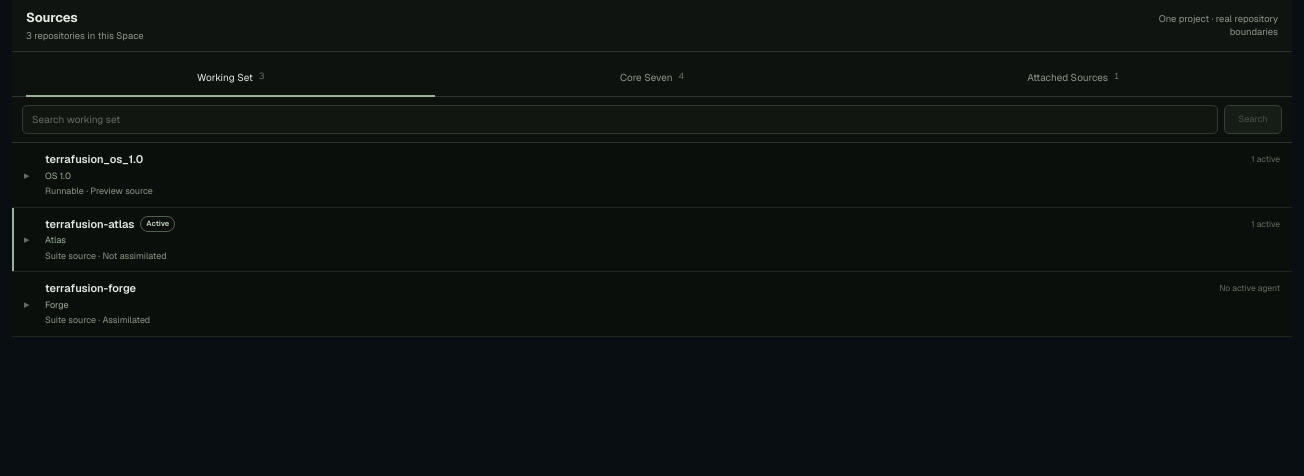
it: Experience V2 repository shelf › groups all Core Seven by their asymmetric product roles
Click the tab with aria-label "Core Seven, 4 repositories".
click(652, 77)  # box [441,58,863,96]
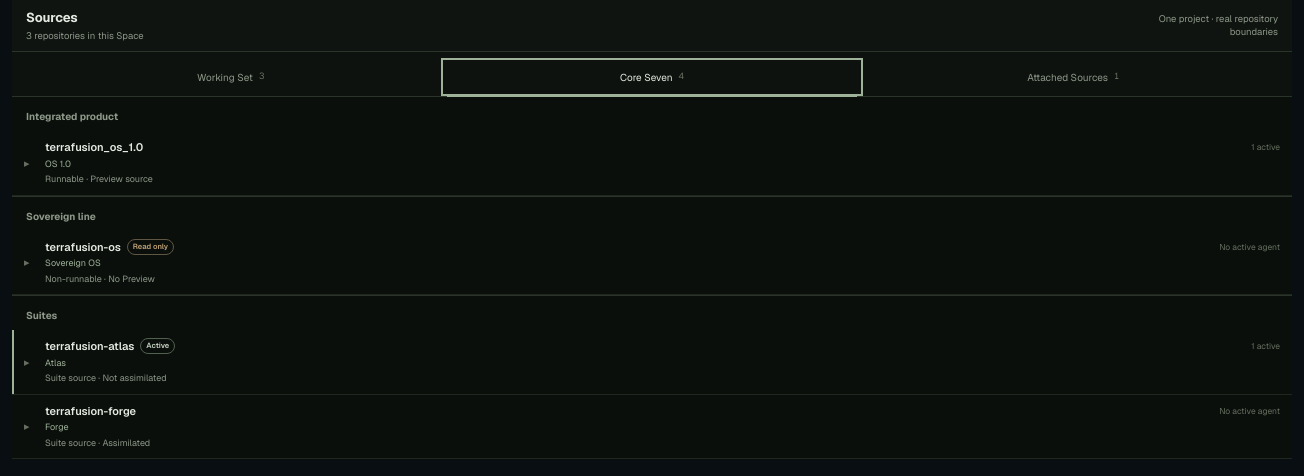
Expected: the element named "Integrated product repositories" is shown, [12,97,1292,196]
Expected: the element named "Sovereign planning and promotion repositories" is shown, [12,196,1292,295]
Expected: the element named "Suite source repositories" is shown, [12,295,1292,459]
